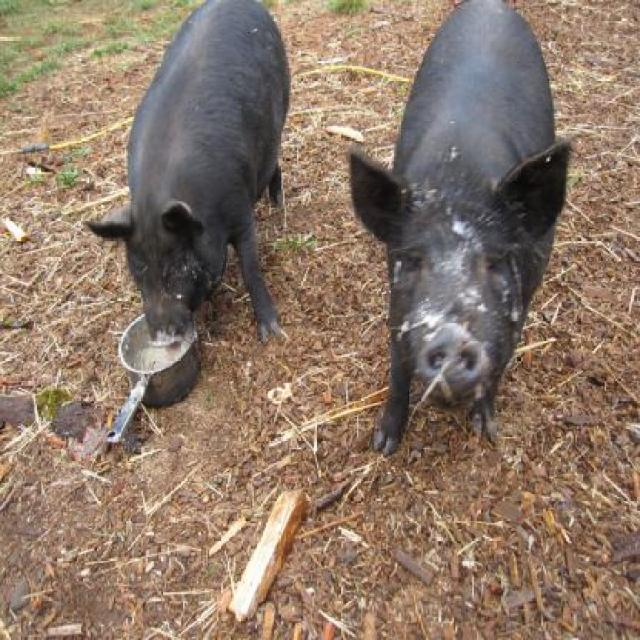pig: (346, 0, 574, 454), (81, 0, 292, 346)
